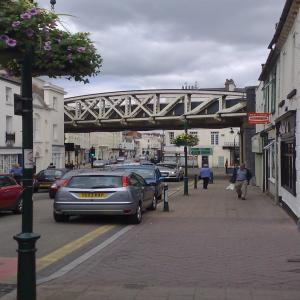Vehicle-registration-plate: (81, 194, 109, 199), (41, 185, 51, 189), (163, 176, 168, 177)
